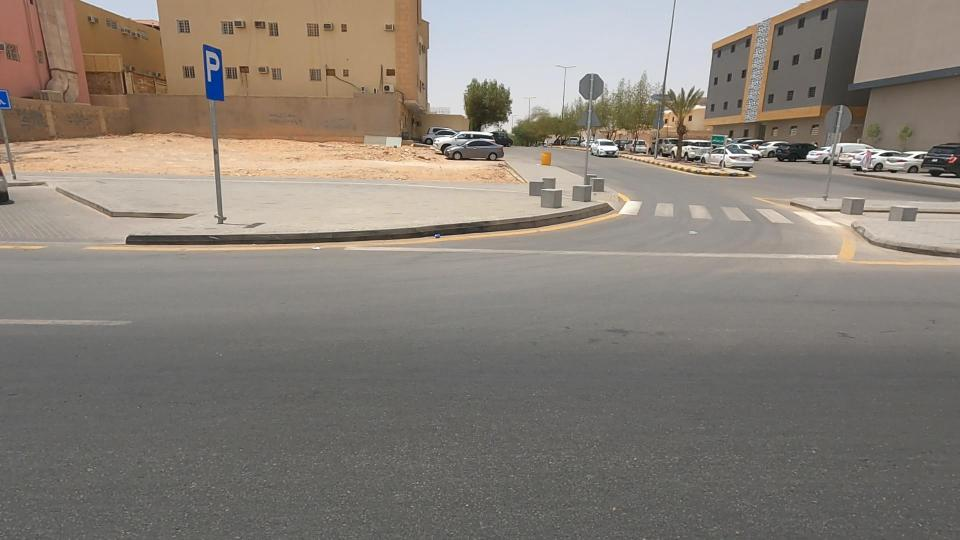GARBAGE: (311, 104, 433, 173)
GRAFFITI: (238, 92, 332, 144)
